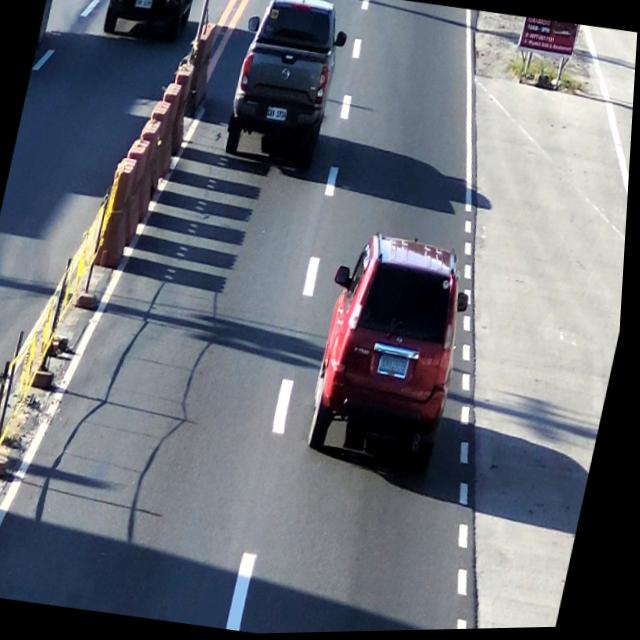Car: (303, 230, 489, 484), (219, 0, 352, 171)
License-Plate: (378, 351, 417, 384), (263, 101, 291, 126)
